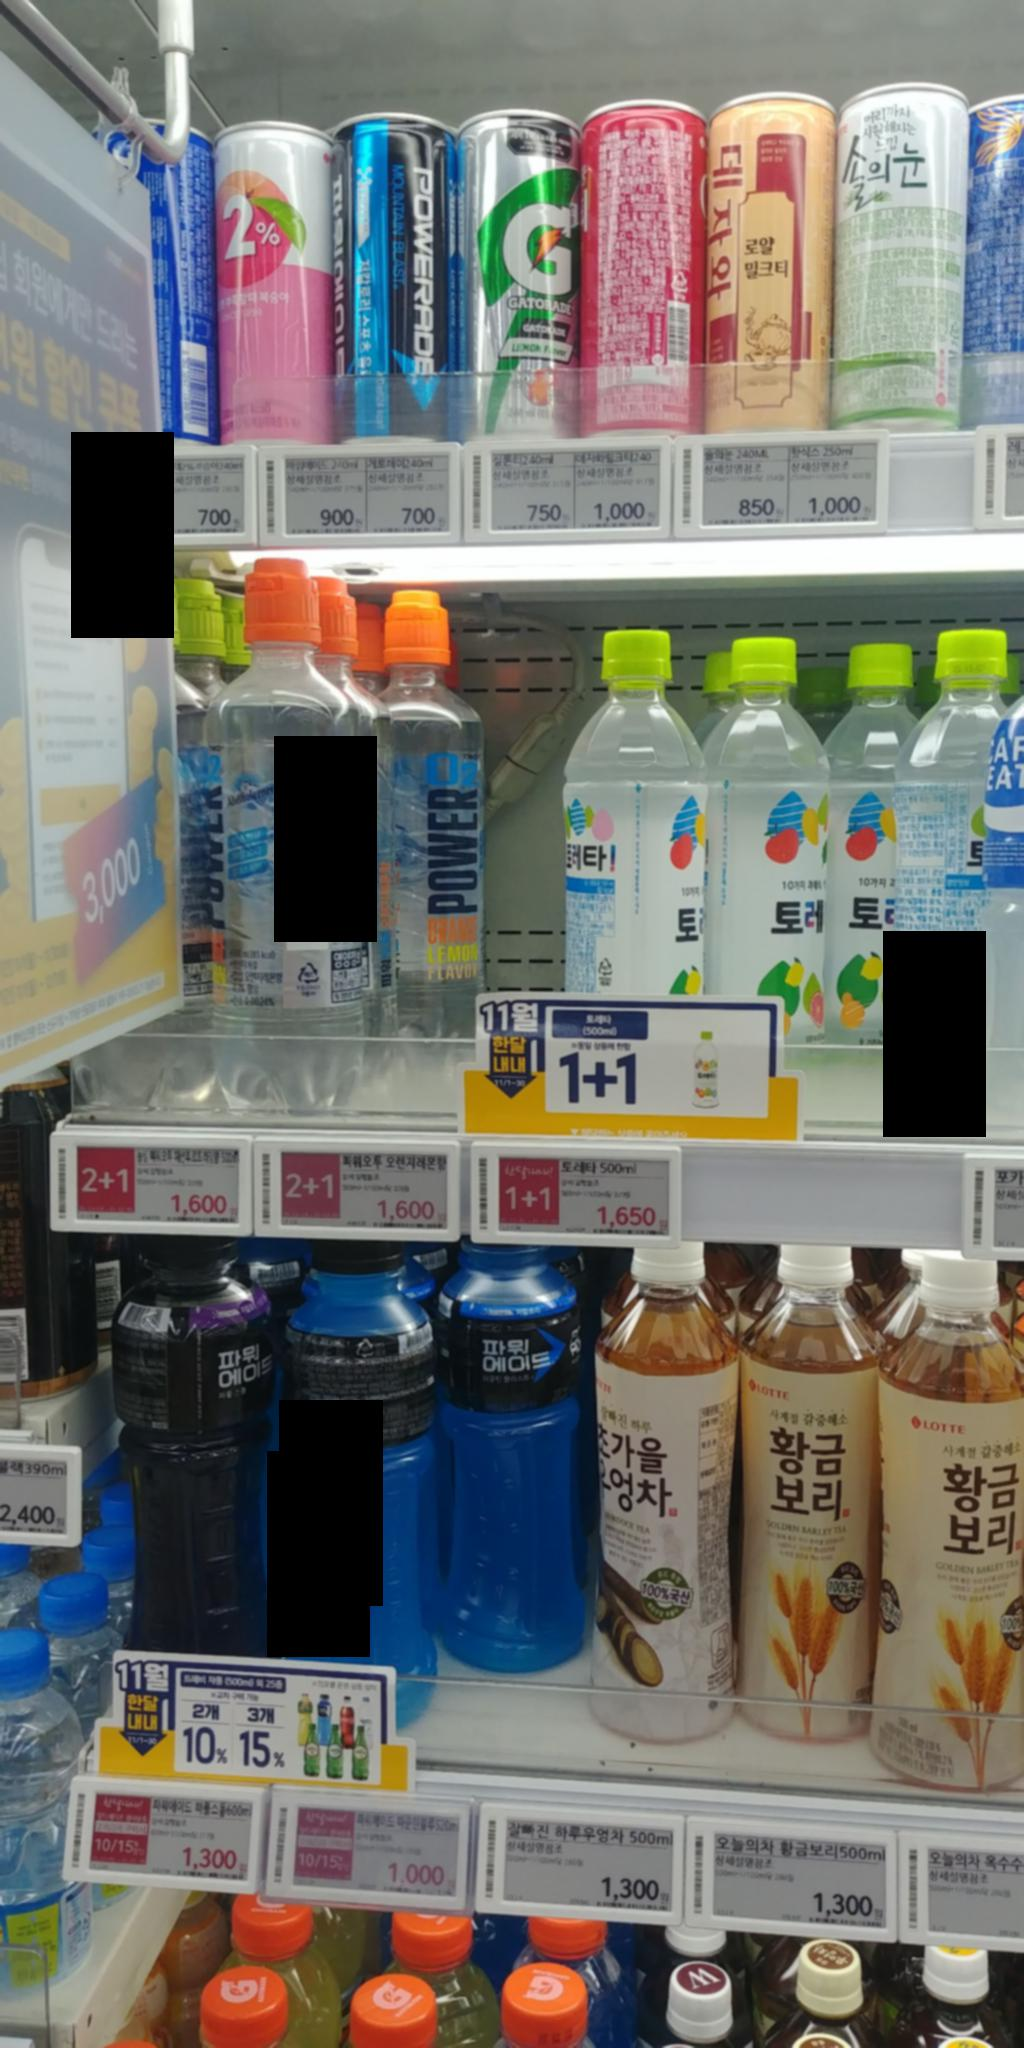powerO2_orange: (213, 549, 374, 1108), (353, 576, 502, 1084)
toreta: (419, 1238, 593, 1686), (286, 1240, 440, 1732), (552, 623, 713, 1002), (703, 620, 841, 1055), (833, 637, 923, 1058)
